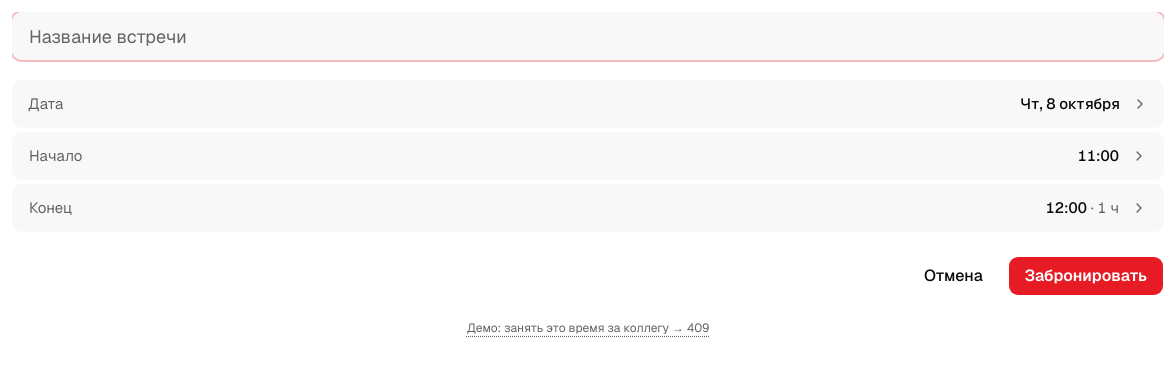
Test: QuickBookingForm › shows a server-side time error (422) next to the time
Click the button "Забронировать": (1086, 276) [1008, 256, 1164, 296]
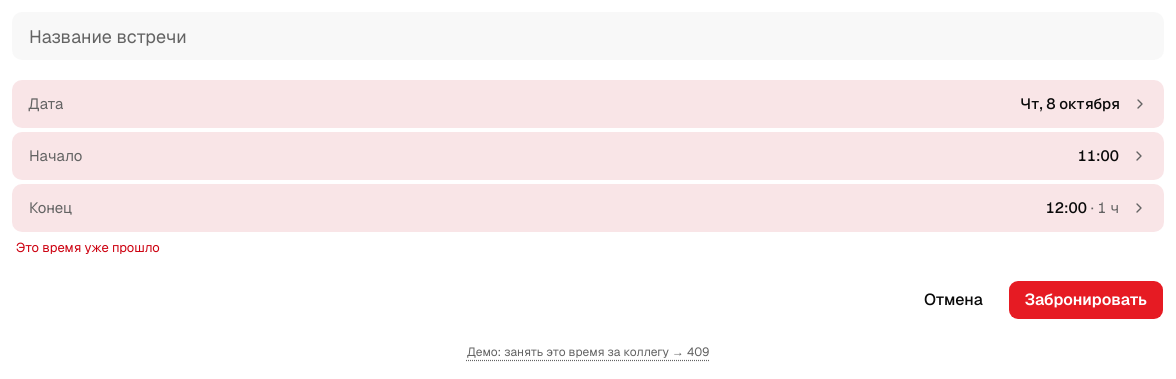
Expected: the text "Это время уже прошло" is shown, [16, 239, 160, 256]
